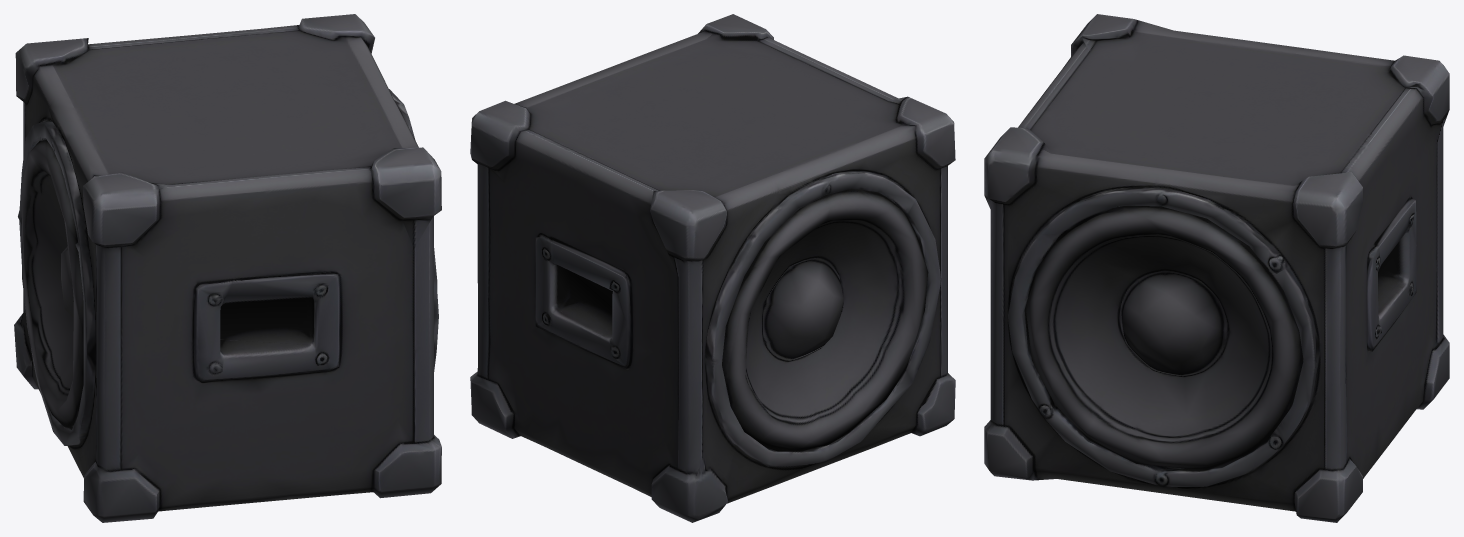
The model's file is speaker.glb.
The picture shows the model from 3 angles, left to right: view 1: azimuth 30°, elevation 25°; view 2: azimuth 150°, elevation 25°; view 3: azimuth 270°, elevation 25°; orthographic projection. The views are drawn at different scales.
Parts seen in each view (by area): view 1: tripo_node_04d1c04c-74f2-494b-babb-7ad2e7e0d030; view 2: tripo_node_04d1c04c-74f2-494b-babb-7ad2e7e0d030; view 3: tripo_node_04d1c04c-74f2-494b-babb-7ad2e7e0d030.
Part boxes in pixels (left/top/right/bottom): tripo_node_04d1c04c-74f2-494b-babb-7ad2e7e0d030: left=14, top=14, right=441, bottom=522; tripo_node_04d1c04c-74f2-494b-babb-7ad2e7e0d030: left=470, top=14, right=955, bottom=522; tripo_node_04d1c04c-74f2-494b-babb-7ad2e7e0d030: left=984, top=14, right=1449, bottom=522.
Bounding box in the file's own units: 1.18 × 0.9501 × 1.21.
1 material, 1 textured.
